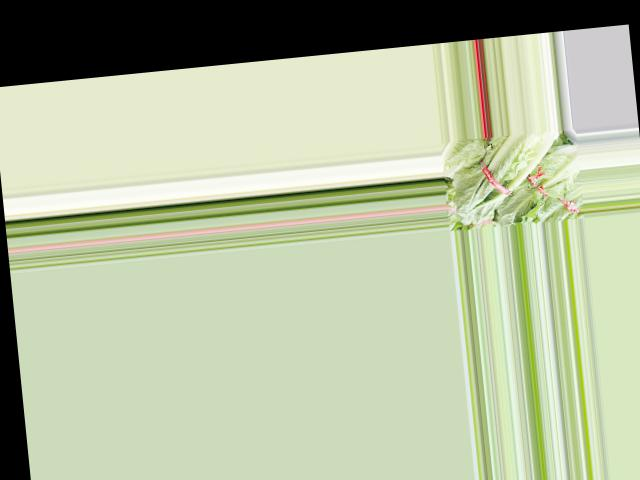lettuce: (446, 129, 565, 227)
